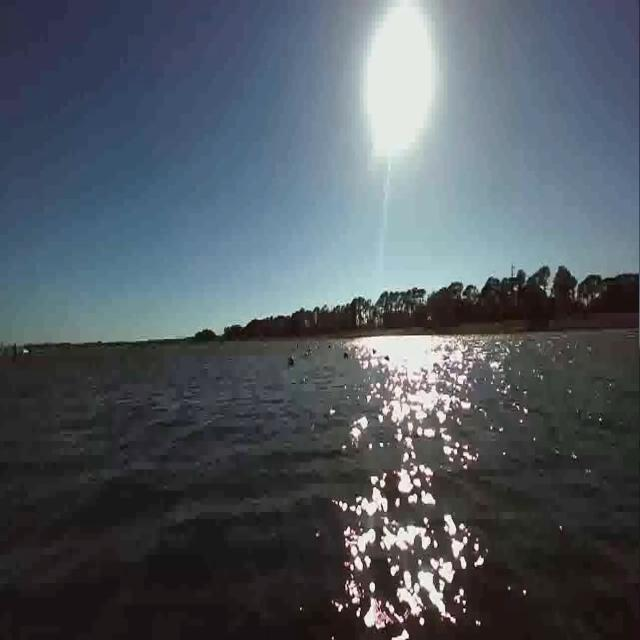black-buoy: (288, 351, 296, 368)
